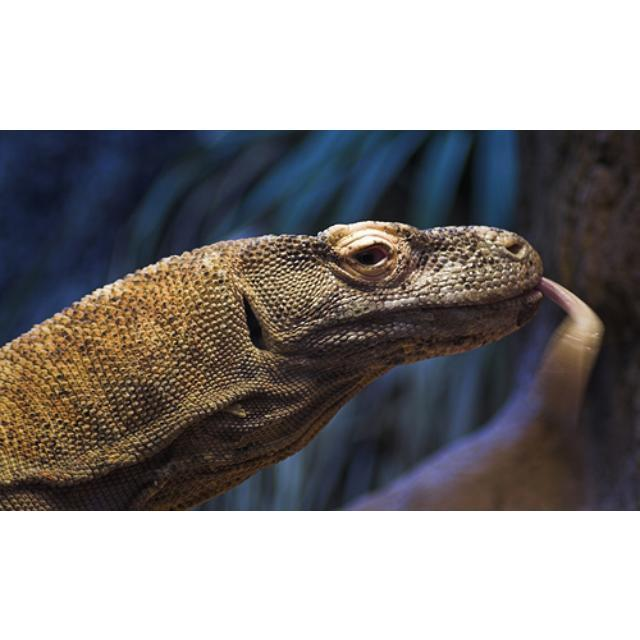KomodoDragon: (1, 218, 606, 508)
